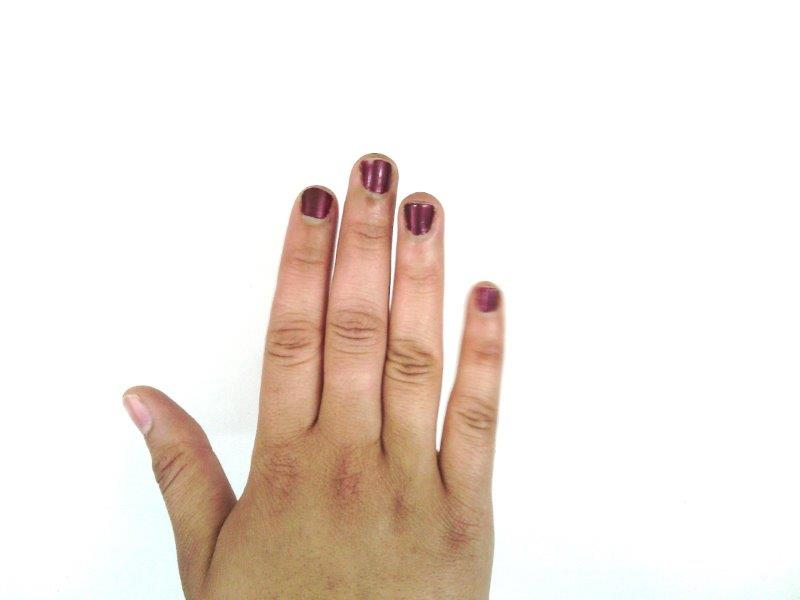hand: (123, 152, 504, 597)
